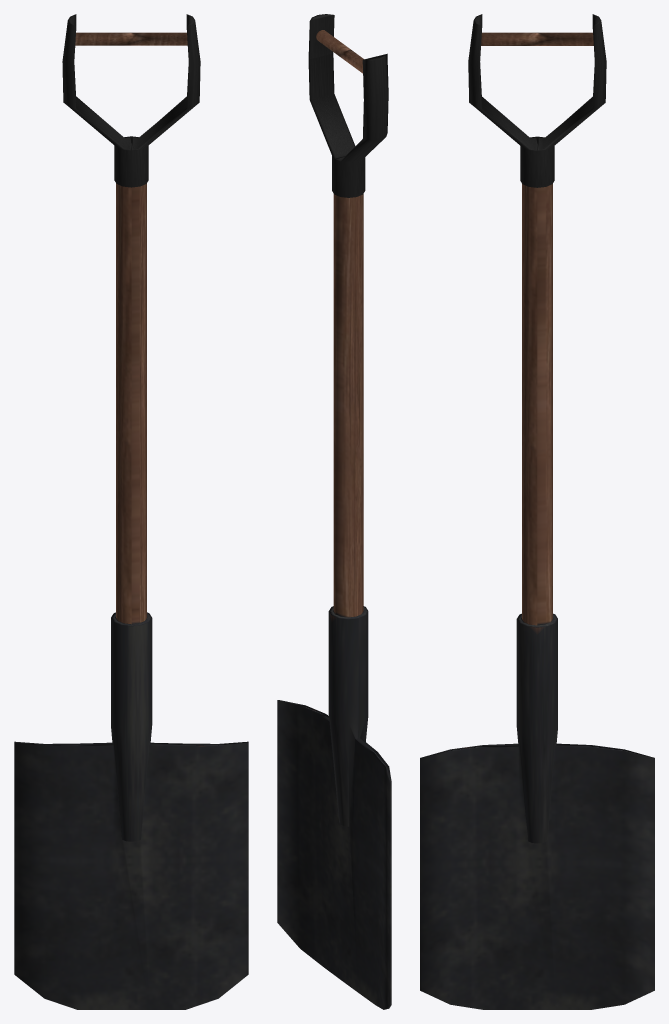
The model's file is Shovel.fbx.
The picture shows the model from 3 angles, left to right: view 1: azimuth 90°, elevation 25°; view 2: azimuth 210°, elevation 25°; view 3: azimuth 270°, elevation 25°; orthographic projection. The views are drawn at different scales.
Visible parts, largest first — view 1: Stick; view 2: Stick; view 3: Stick.
Boxes of the visible parts, x1,y1,x2,y2 form: Stick: (14,14,248,1009); Stick: (277,14,391,1009); Stick: (420,14,654,1009).
Size of the model in its own units: 240 by 6331 by 1362.
Materials: 1 (1 with a texture image).
